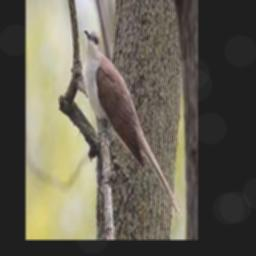Cuckoo: (84, 28, 183, 222)
